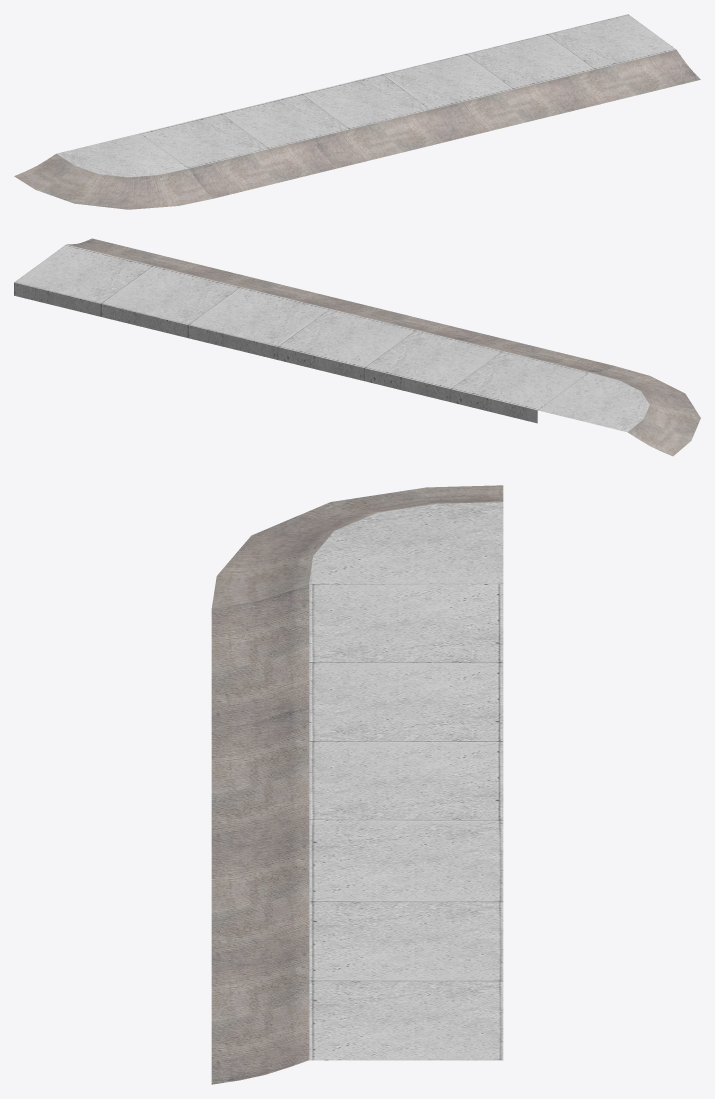
The model's file is MDL_Banqueta.fbx.
3 views of the same model, one above another, from view 1: azimuth 30°, elevation 25°; view 2: azimuth 150°, elevation 25°; view 3: azimuth 270°, elevation 25° (orthographic). The views are drawn at different scales.
Parts seen in each view (by area): view 1: GEO_Banqueta, GEO_BanquetaCurva; view 2: GEO_Banqueta, GEO_BanquetaCurva; view 3: GEO_Banqueta, GEO_BanquetaCurva.
Boxes of the visible parts, x1=… form: GEO_Banqueta: x1=140, y1=14, x2=700, y2=198; GEO_BanquetaCurva: x1=14, y1=133, x2=212, y2=209; GEO_Banqueta: x1=14, y1=238, x2=615, y2=423; GEO_BanquetaCurva: x1=538, y1=366, x2=700, y2=456; GEO_Banqueta: x1=211, y1=584, x2=503, y2=1084; GEO_BanquetaCurva: x1=212, y1=485, x2=503, y2=608.
Size of the model in its own units: 64.52 by 1.23 by 13.26.
1 material, 1 textured.
